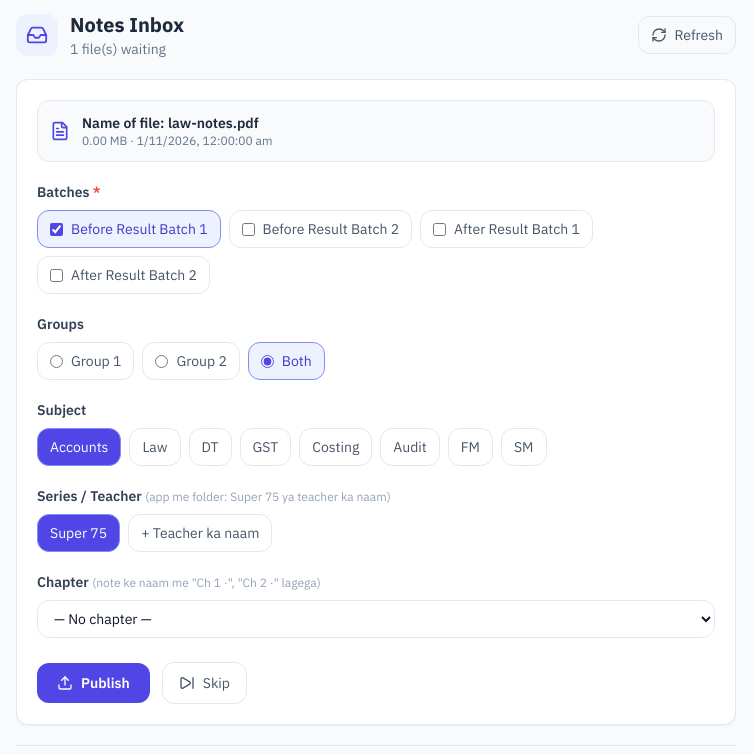
publishing a waiting file refreshes it into the Published files section
Click the button "Publish" at x=93, y=683, box [37,663,150,703]
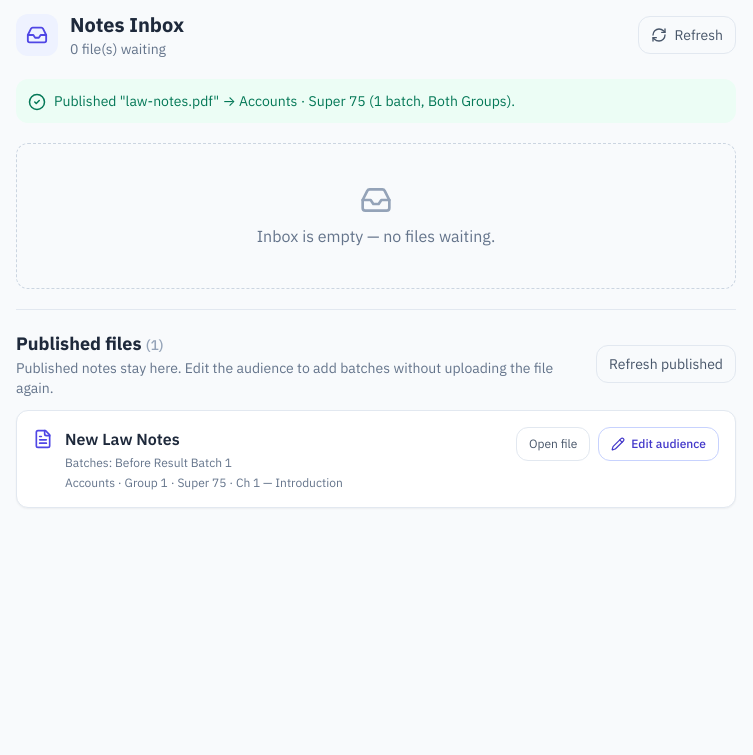
Result: the text "New Law Notes" is shown at [65,429,180,449]
Result: the text "Published files (1)" is shown at [16,332,164,355]
